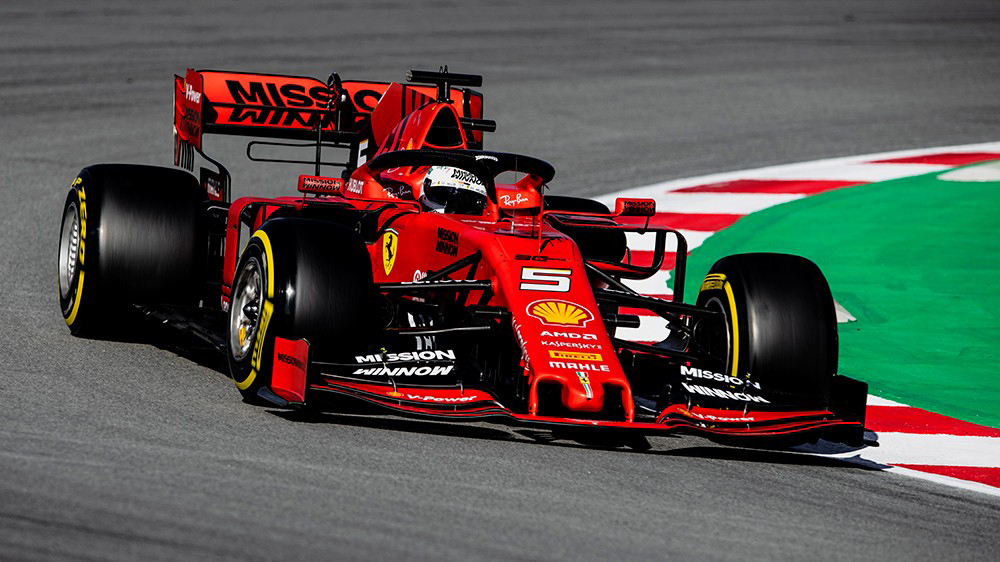F1 Car: (43, 60, 878, 454)
